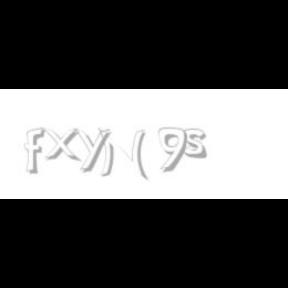9: (158, 128, 188, 172)
N: (97, 128, 146, 180)
f: (25, 128, 49, 174)
s: (183, 128, 211, 160)
x: (42, 128, 84, 162)
y: (74, 128, 114, 172)
